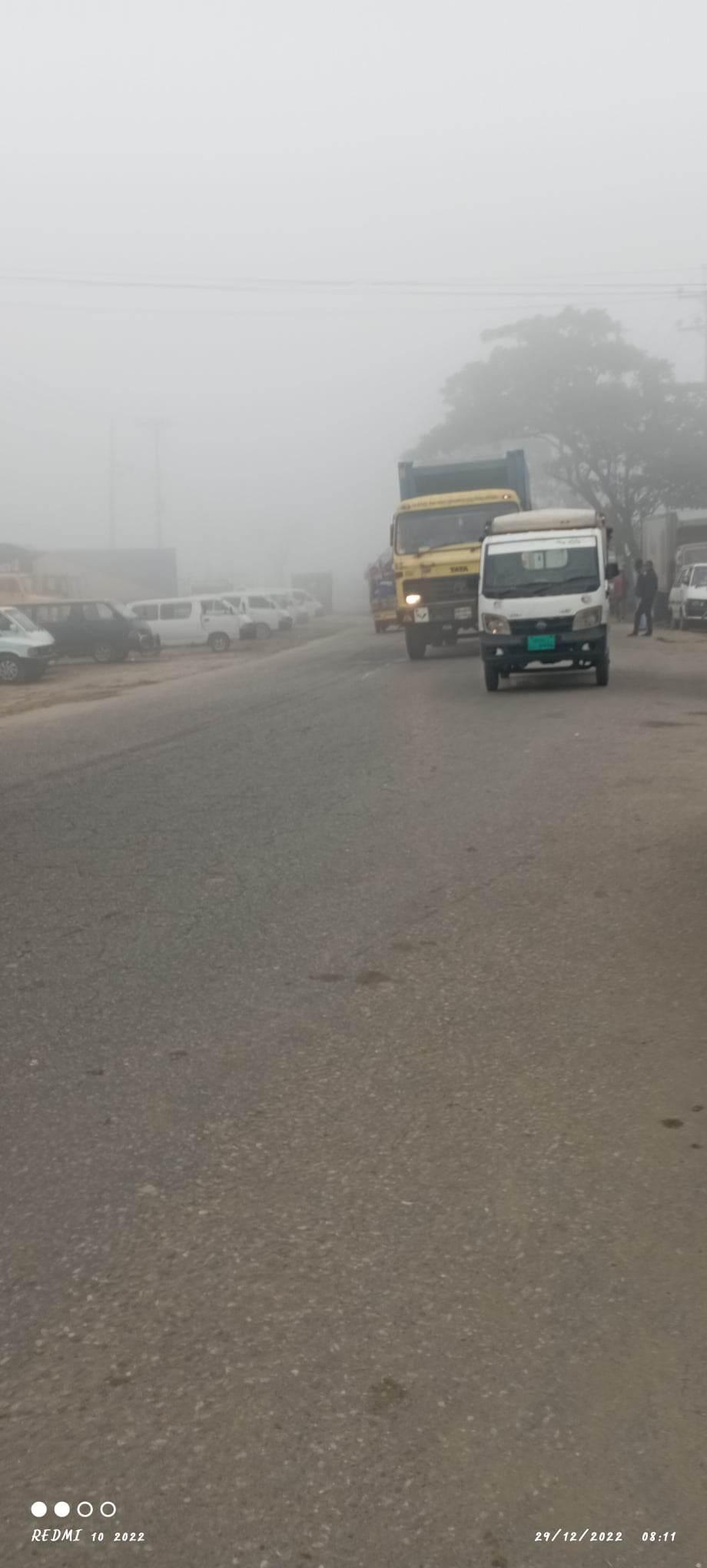Car: (459, 499, 632, 709), (26, 583, 158, 673), (121, 584, 263, 664)
Truck: (376, 439, 543, 674)
